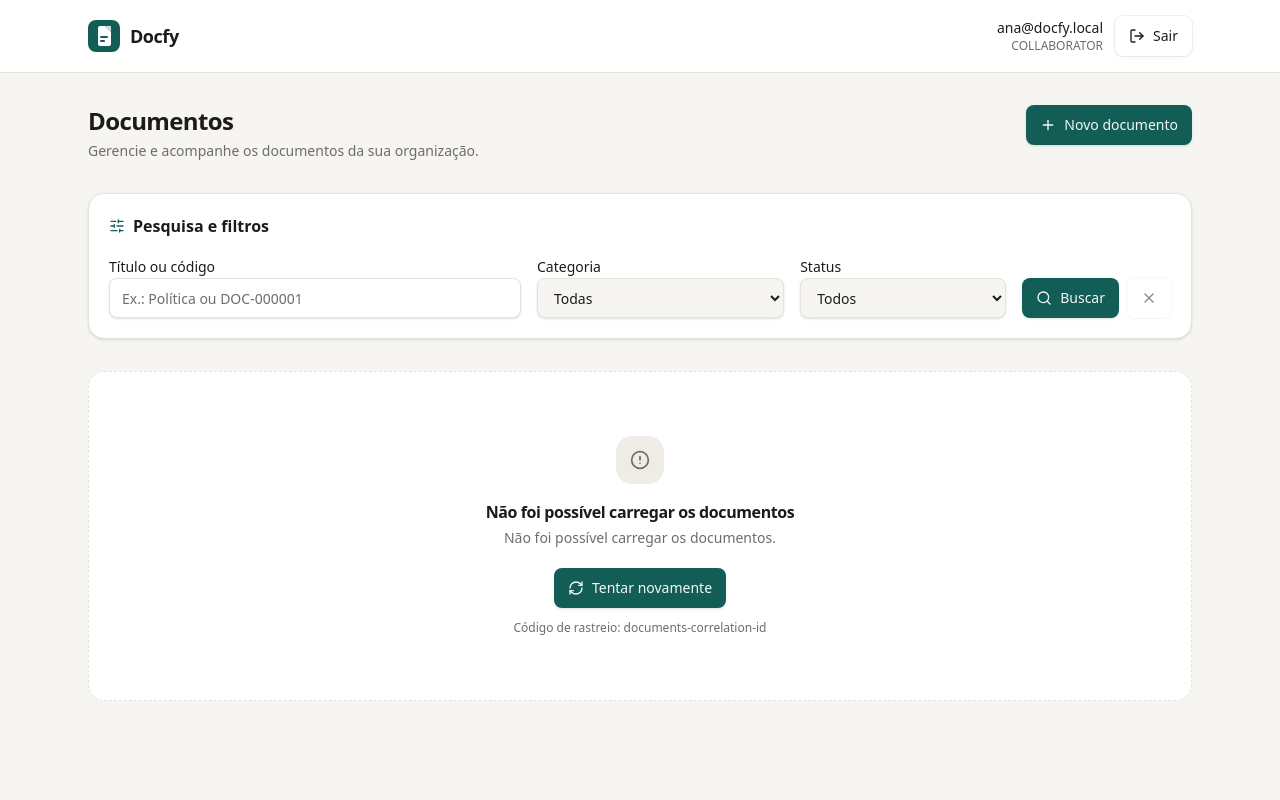
DocumentsPage › shows a correlation id and retries a failed request
Expected: the text "documents-correlation-id" is shown, [624, 619, 766, 636]
Click the button "Tentar novamente" at (640, 588), box [554, 568, 726, 608]
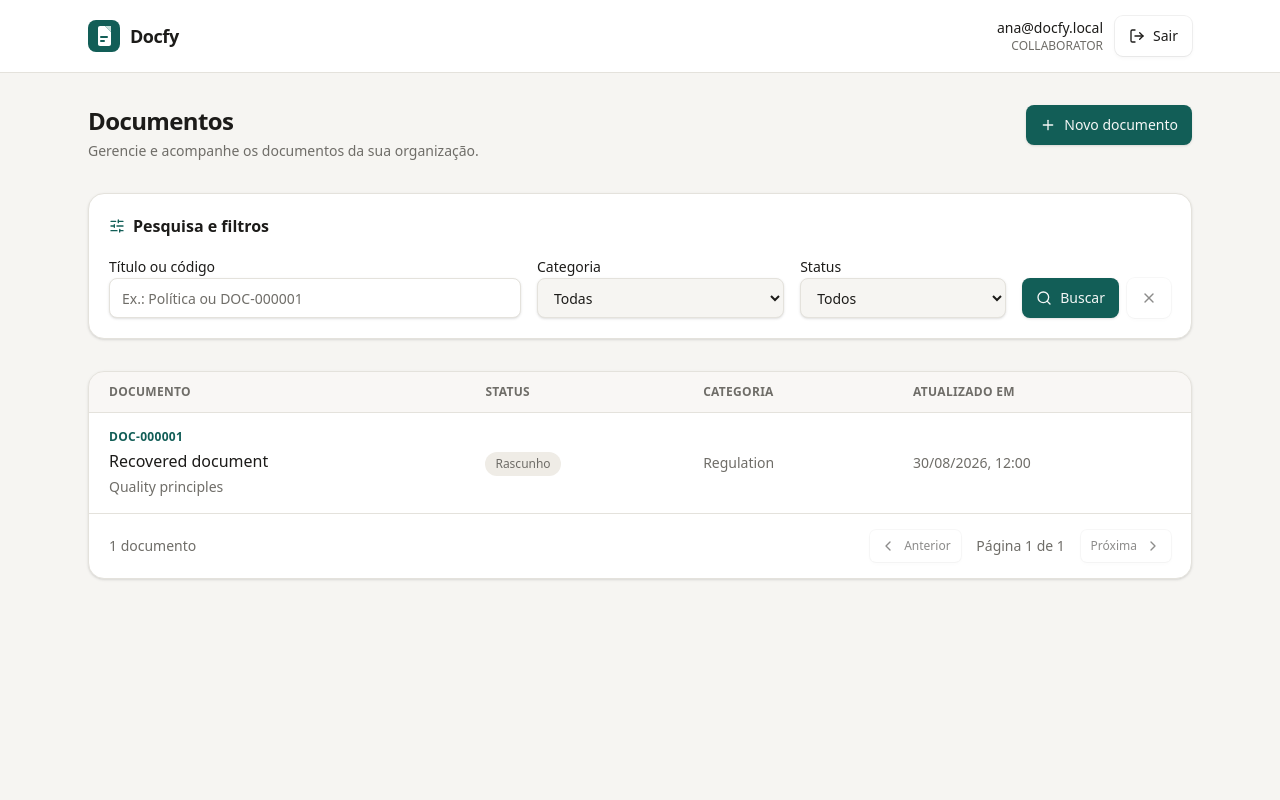
Now the link "Recovered document" is shown, box [109, 450, 268, 472]
